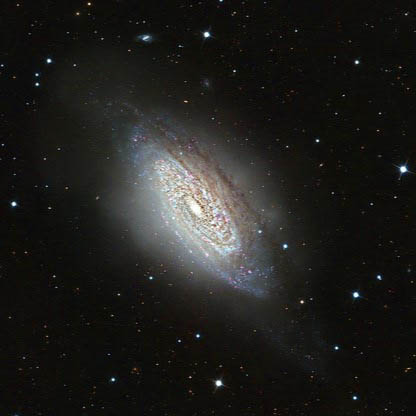NGC 3521: (10, 26, 410, 390)
